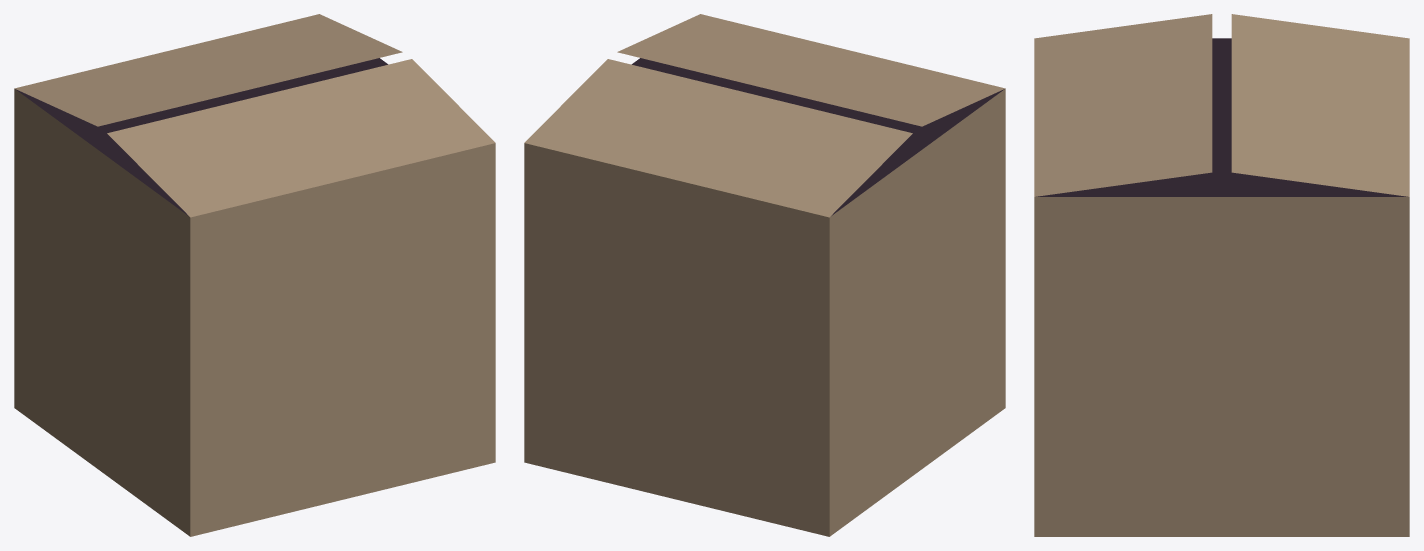
The model's file is CardboardBox.fbx.
3 views of the same model, side by side, from view 1: azimuth 30°, elevation 25°; view 2: azimuth 150°, elevation 25°; view 3: azimuth 270°, elevation 25° (orthographic). The views are drawn at different scales.
Parts seen in each view (by area): view 1: Cube; view 2: Cube; view 3: Cube.
Part boxes in pixels (x1,y1,x2,y2): Cube: [14, 14, 495, 536]; Cube: [524, 14, 1005, 536]; Cube: [1034, 14, 1409, 536].
Bounding box in the file's own units: 325 × 348 × 325.
